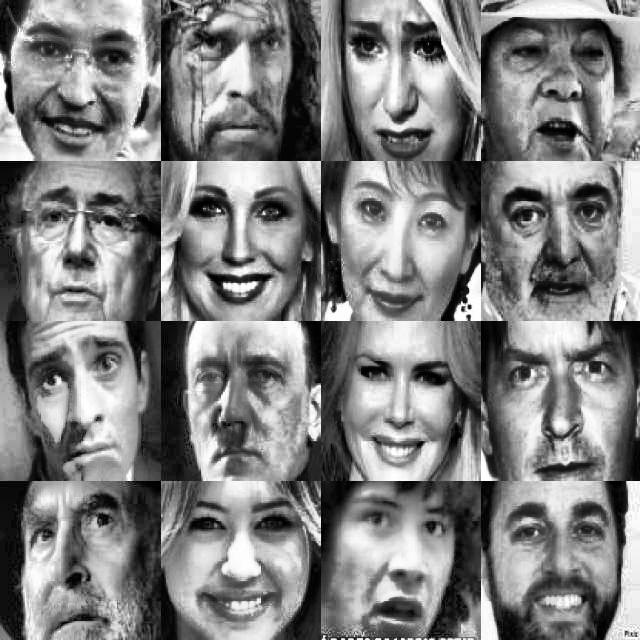fear: (171, 19, 300, 150), (342, 17, 465, 154), (350, 504, 470, 640), (23, 515, 143, 638)
happy: (351, 329, 473, 477), (177, 499, 306, 633), (180, 175, 300, 313), (18, 20, 147, 148), (505, 501, 627, 633), (346, 179, 464, 315)
neutral: (186, 330, 306, 476), (495, 340, 621, 478), (507, 187, 638, 315), (504, 33, 618, 164)
sad: (26, 343, 164, 479), (24, 174, 148, 312)
